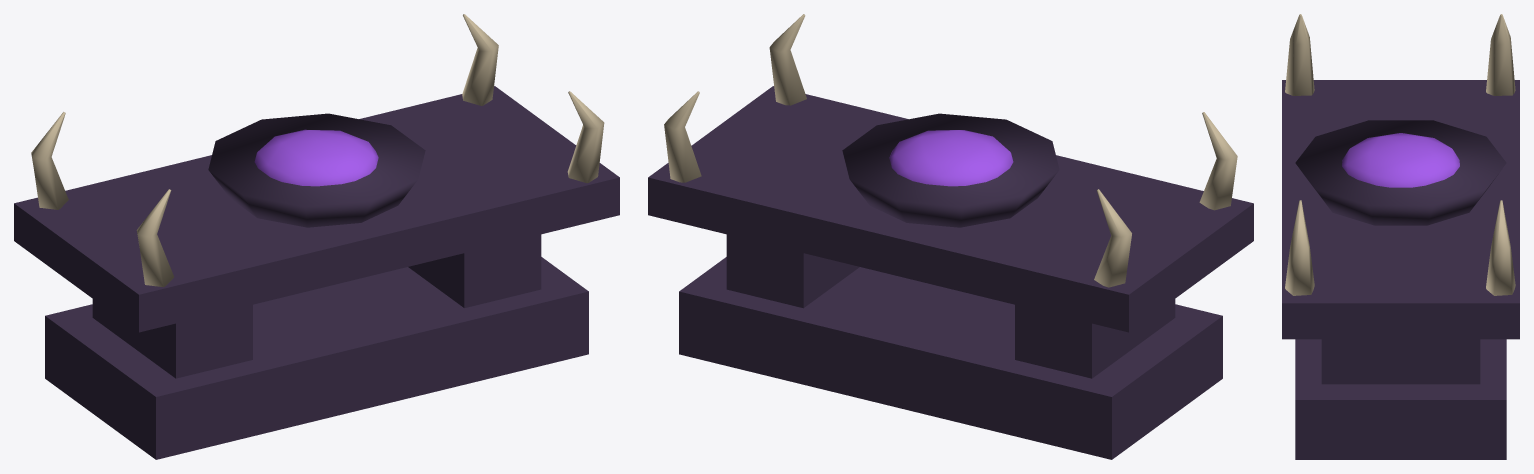
File: demon_altar_v0.glb
The picture shows the model from 3 angles, left to right: view 1: azimuth 30°, elevation 25°; view 2: azimuth 150°, elevation 25°; view 3: azimuth 270°, elevation 25°; orthographic projection. The views are drawn at different scales.
Visible parts, largest first — view 1: demon_altar_v0; view 2: demon_altar_v0; view 3: demon_altar_v0.
Boxes of the visible parts, x1,y1,x2,y2 form: demon_altar_v0: [14, 14, 619, 459]; demon_altar_v0: [648, 14, 1253, 459]; demon_altar_v0: [1282, 14, 1519, 459].
Bounding box in the file's own units: 2 × 1.05 × 0.9.
